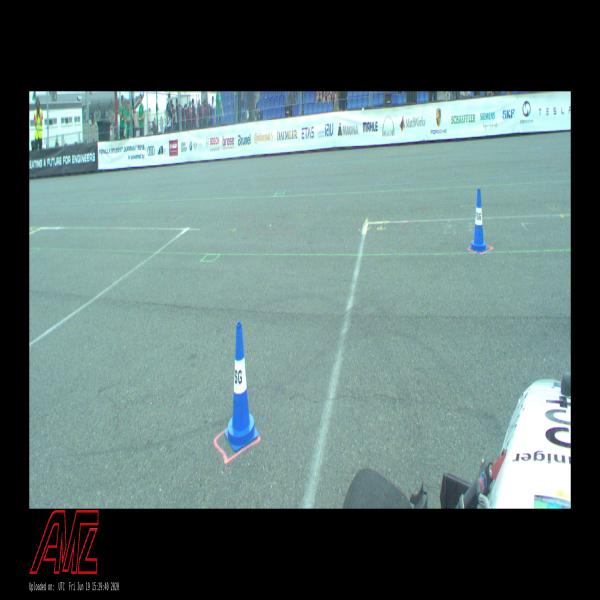blue_cone: (224, 322, 259, 451), (468, 188, 488, 252)
